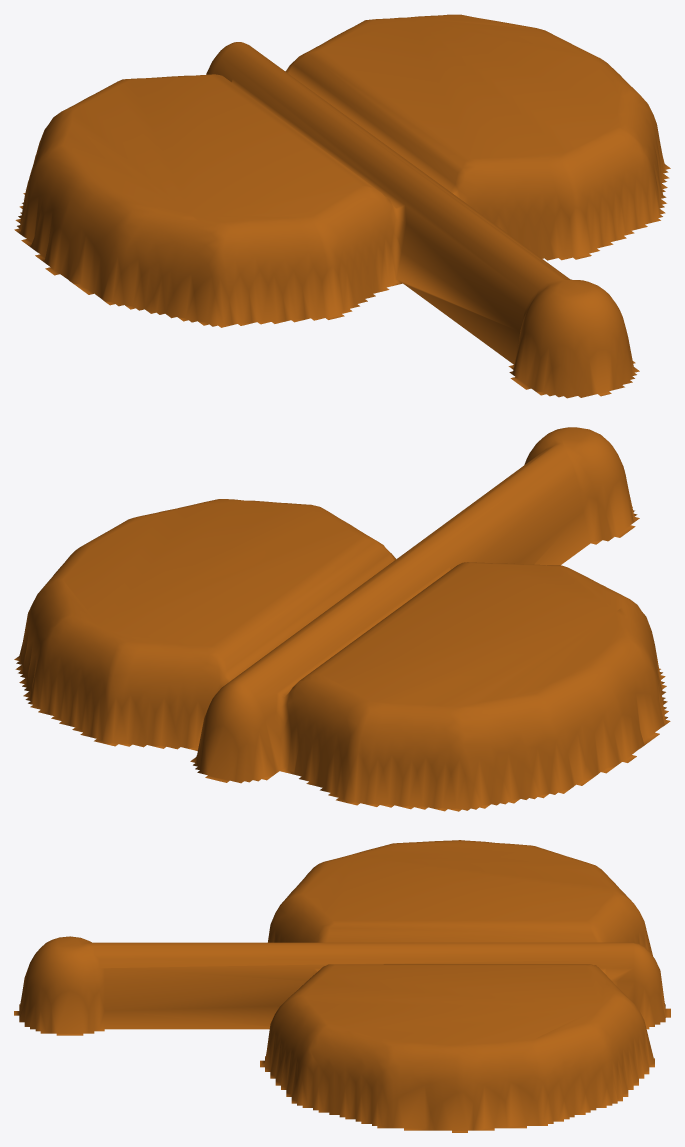
File: decoration-barbarian-draco.glb
3 renders of one model, top to bottom at view 1: azimuth 30°, elevation 25°; view 2: azimuth 150°, elevation 25°; view 3: azimuth 270°, elevation 25°, orthographic. The views are drawn at different scales.
Visible parts, largest first — view 1: decoration_barbarian; view 2: decoration_barbarian; view 3: decoration_barbarian.
Boxes of the visible parts, x1,y1,x2,y2 form: decoration_barbarian: (14, 14, 670, 398); decoration_barbarian: (14, 427, 670, 811); decoration_barbarian: (14, 840, 670, 1132).
Bounding box in the file's own units: 0.1908 × 0.0261 × 0.2214.
